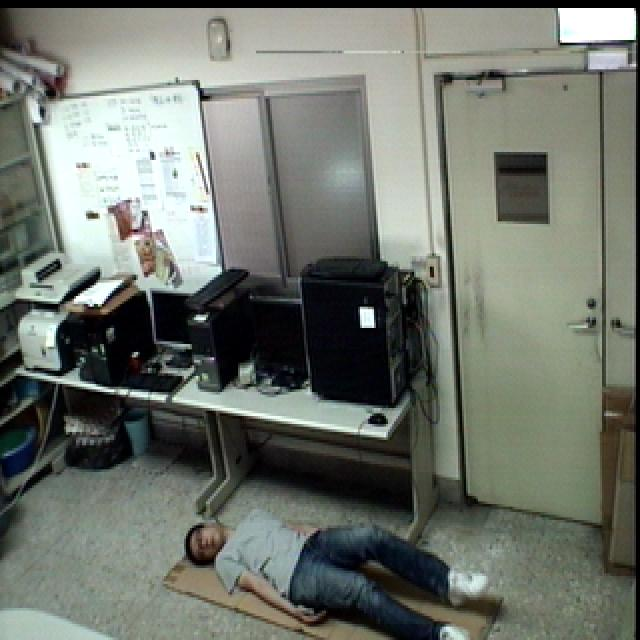lie: (170, 485, 493, 640)
